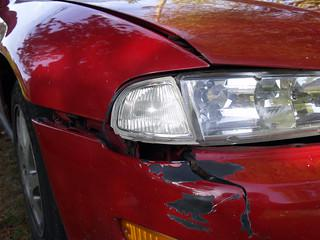fender-dent: (1, 0, 166, 153)
front-bumper-dent: (108, 129, 318, 239)
